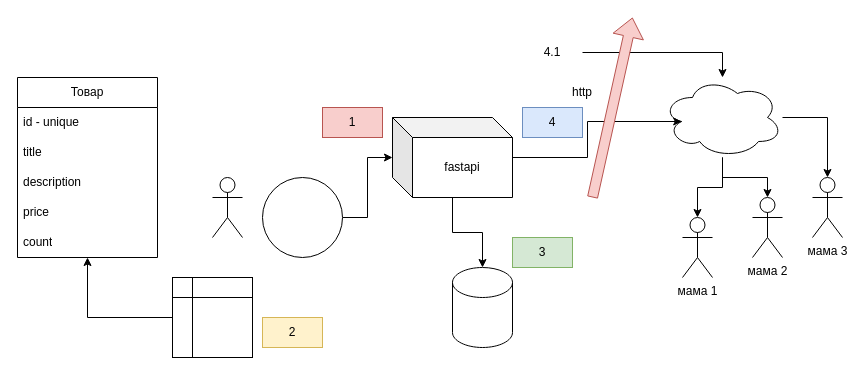
This 865x375 diagram has some shape labels left out. Here are the shapes that lost their labels. From the top down, the centre of each, then its label:
the point at 722,117: telegram
the point at 227,207: маркетолог
the point at 302,217: chrome
the point at 212,317: excel
the point at 482,307: sqlite
